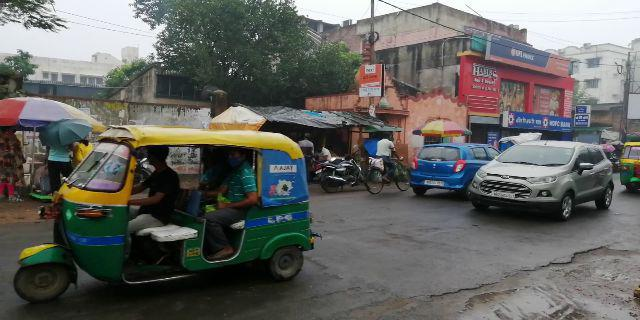Autorickshaw: (18, 127, 318, 300)
Car: (473, 141, 615, 214), (413, 143, 487, 194)
Cycle: (364, 130, 411, 199)
